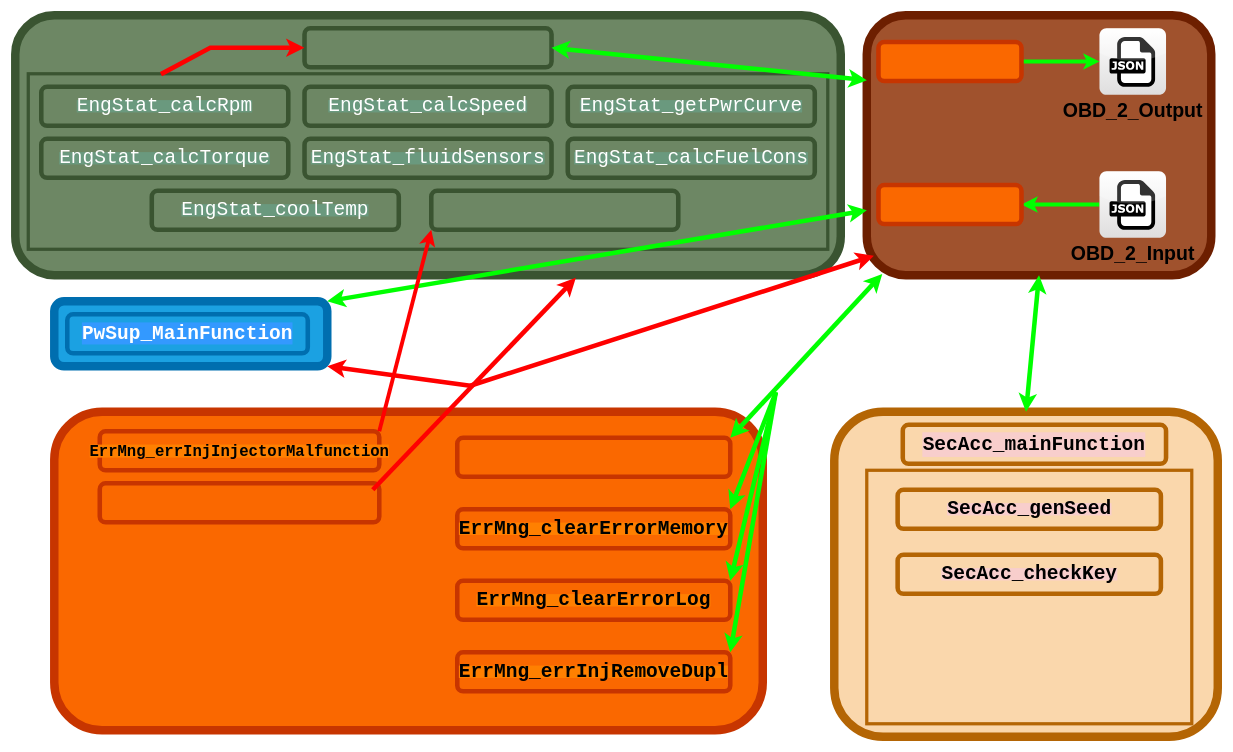
This 1233x752 diagram has some shape labels left out. Each missing label, with the box of its shape:
CanCom_RX: (876, 182, 1023, 226)
CanCom_TX: (876, 39, 1023, 83)
EngStat_calcPwr: (429, 188, 680, 232)
EngStat_MainFunction: (302, 26, 553, 69)
ErrMng_addErrorToMemory: (97, 481, 381, 524)
ErrMng_checkActiveError: (455, 435, 732, 479)
